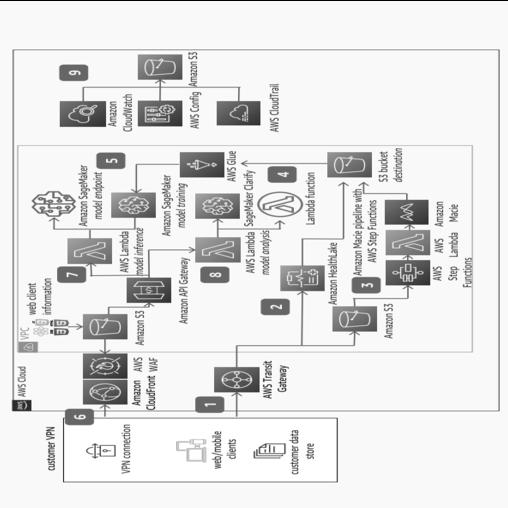actor: (274, 436, 316, 461), (80, 436, 121, 461), (188, 436, 228, 461)
api_gateway: (126, 277, 167, 303)
compute: (256, 182, 302, 213), (64, 236, 106, 262), (182, 154, 224, 180), (387, 262, 428, 288), (387, 236, 428, 262), (387, 205, 428, 231), (28, 190, 69, 216), (198, 236, 238, 262), (106, 190, 146, 216), (188, 190, 228, 216), (279, 267, 320, 292), (34, 316, 64, 335)
data_flow: (233, 349, 356, 354), (229, 165, 331, 170), (146, 267, 218, 272), (126, 180, 198, 185), (85, 93, 157, 98), (156, 93, 228, 98), (356, 302, 408, 308), (86, 267, 146, 272), (298, 213, 302, 285), (98, 302, 144, 308), (356, 185, 408, 190), (300, 180, 351, 185), (298, 292, 302, 348), (44, 226, 85, 231), (85, 226, 126, 231), (224, 210, 264, 215), (244, 180, 284, 185), (98, 402, 103, 434), (405, 188, 410, 218), (231, 400, 236, 426), (65, 323, 85, 328), (405, 285, 410, 305), (154, 91, 159, 110), (46, 211, 52, 226), (200, 170, 206, 184), (216, 218, 220, 238), (231, 349, 236, 364), (354, 329, 359, 344), (354, 303, 359, 318), (98, 334, 103, 348), (83, 252, 88, 266), (226, 170, 231, 184), (349, 170, 354, 184), (154, 78, 159, 92), (124, 211, 128, 226), (124, 180, 128, 195), (216, 252, 220, 266), (262, 196, 266, 210), (98, 306, 103, 316), (144, 295, 149, 305), (144, 270, 149, 280), (405, 254, 410, 264), (83, 96, 88, 106), (226, 96, 231, 106), (83, 229, 88, 238), (405, 229, 410, 238)
database_storage: (80, 312, 121, 338), (336, 312, 377, 338), (331, 154, 372, 180), (136, 57, 177, 83)
network_security: (211, 362, 256, 392), (64, 103, 106, 129), (80, 374, 121, 400), (80, 348, 121, 374), (136, 103, 177, 129), (208, 103, 249, 129)
trust_boundary: (18, 50, 500, 407), (26, 147, 461, 352), (56, 420, 338, 476)
